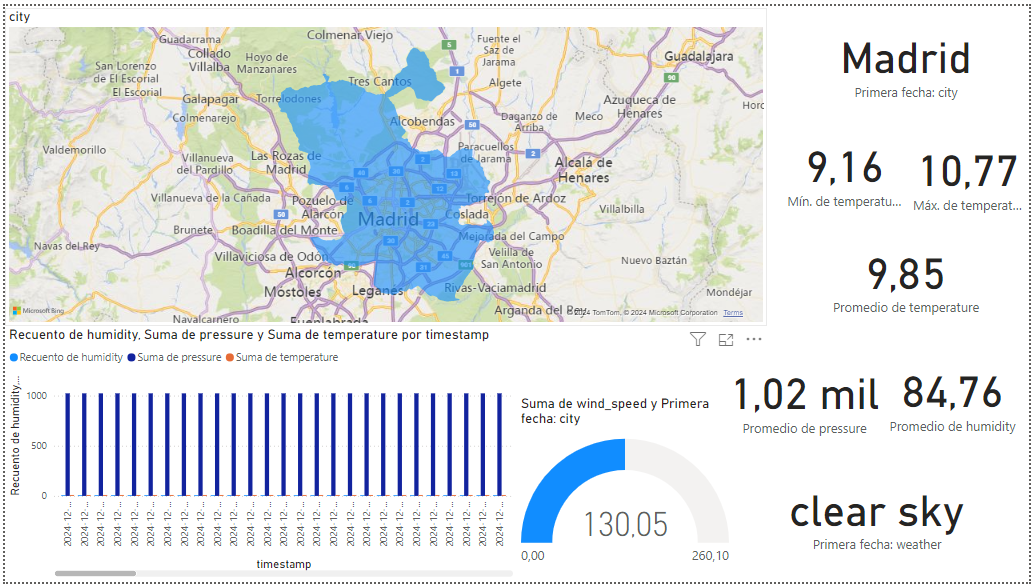

The page's visual inventory and layout, read from the dashboard file:
{"tool":"powerbi","page":{"name":"Página 1","canvas":[1280,720],"ordinal":0},"visuals":[{"type":"card","fields":{"Values":["Avg(powerbitable.temperature)"]},"box":[972.5,262.5,307.5,151.2],"z":0},{"type":"card","fields":{"Values":["Min(powerbitable.weather)"]},"box":[900,548.8,380,171.2],"z":1000},{"type":"card","fields":{"Values":["Max(powerbitable.temperature)"]},"box":[1126.5,134.4,153.5,149.9],"z":2000},{"type":"card","fields":{"Values":["Min(powerbitable.temperature)"]},"box":[973.1,132,153.5,145.1],"z":3000},{"type":"card","fields":{"Values":["Min(powerbitable.city)"]},"box":[972.5,2.5,307.5,132.5],"z":4000},{"type":"gauge","fields":{"Y":["Sum(powerbitable.wind_speed)"]},"box":[640,486.2,270,232.5],"z":5000},{"type":"lineClusteredColumnComboChart","fields":{"Y":["CountNonNull(powerbitable.humidity)","Sum(powerbitable.pressure)","Sum(powerbitable.temperature)"],"Category":["powerbitable.timestamp"]},"box":[0,400,640,318.8],"z":6000},{"type":"card","fields":{"Values":["Avg(powerbitable.humidity)"]},"box":[1088.8,400,191.2,172.5],"z":7000},{"type":"card","fields":{"Values":["Avg(powerbitable.pressure)"]},"box":[900,413.8,198.8,150],"z":8000},{"type":"filledMap","fields":{"Category":["powerbitable.city"]},"box":[0,2.5,952.5,397.5],"z":8001}]}

Visuals, with their boxes in screenshot pixels (x1, y1, x2, y2), scaled from the page's 1280x720 canvas onto the 1033x584 screenshot:
card - Avg(powerbitable.temperature): Rect(785, 213, 1032, 336)
card - Min(powerbitable.weather): Rect(726, 445, 1032, 583)
card - Max(powerbitable.temperature): Rect(909, 109, 1032, 231)
card - Min(powerbitable.temperature): Rect(785, 107, 909, 225)
card - Min(powerbitable.city): Rect(785, 2, 1032, 110)
gauge - Sum(powerbitable.wind_speed): Rect(516, 394, 734, 583)
lineClusteredColumnComboChart - CountNonNull(powerbitable.humidity) x Sum(powerbitable.pressure): Rect(0, 324, 516, 583)
card - Avg(powerbitable.humidity): Rect(879, 324, 1032, 464)
card - Avg(powerbitable.pressure): Rect(726, 336, 887, 457)
filledMap - powerbitable.city: Rect(0, 2, 769, 324)
